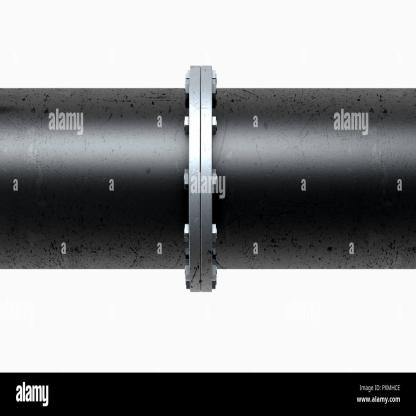PVC: (1, 66, 414, 291)
